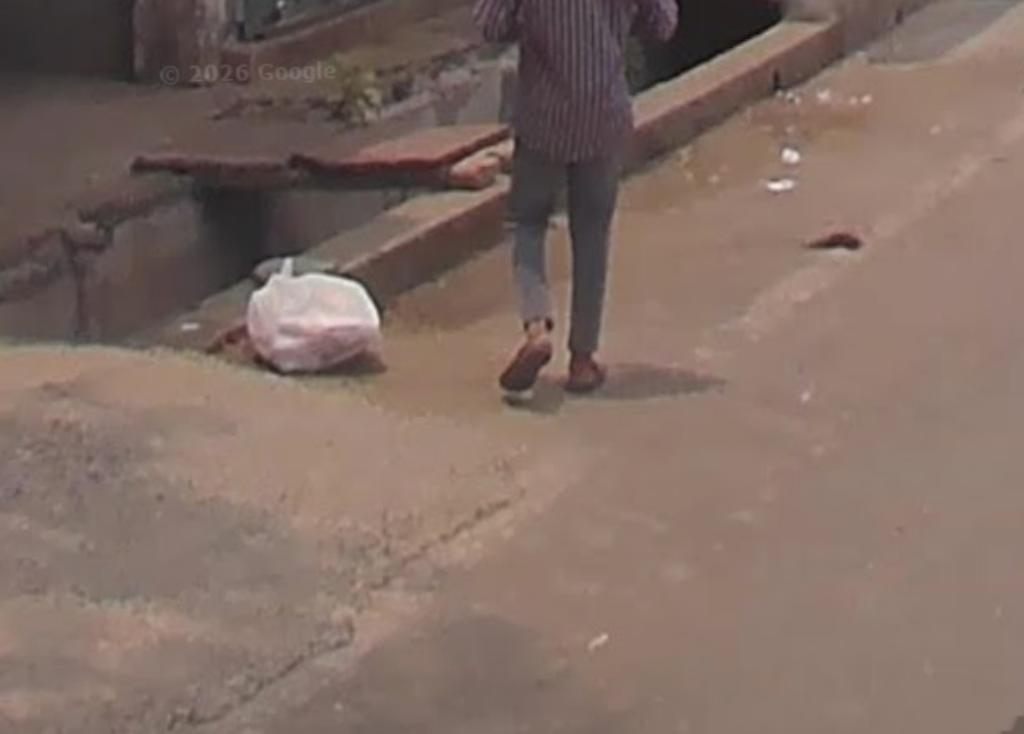garbage: (236, 255, 386, 383)
